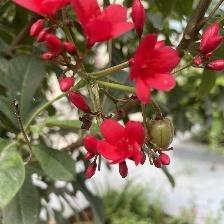jatropha: (99, 115, 149, 170)
